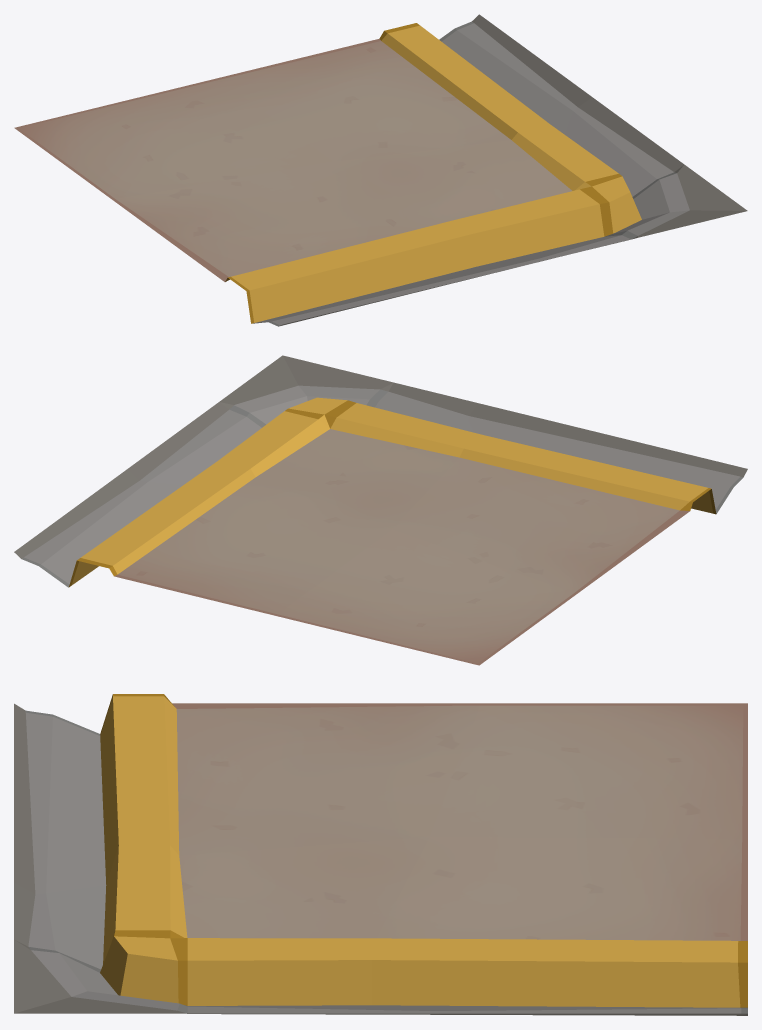
File: SM_Env_Sidewalk_Corner_01.fbx
3 renders of one model, top to bottom at view 1: azimuth 30°, elevation 25°; view 2: azimuth 150°, elevation 25°; view 3: azimuth 270°, elevation 25°, orthographic. The views are drawn at different scales.
Parts seen in each view (by area): view 1: SM_Env_Sidewalk_Corner_01; view 2: SM_Env_Sidewalk_Corner_01; view 3: SM_Env_Sidewalk_Corner_01.
Boxes of the visible parts, x1,y1,x2,y2 form: SM_Env_Sidewalk_Corner_01: (14,14,747,326); SM_Env_Sidewalk_Corner_01: (14,355,747,665); SM_Env_Sidewalk_Corner_01: (14,694,747,1015).
Bounding box in the file's own units: 250 × 15 × 250.
